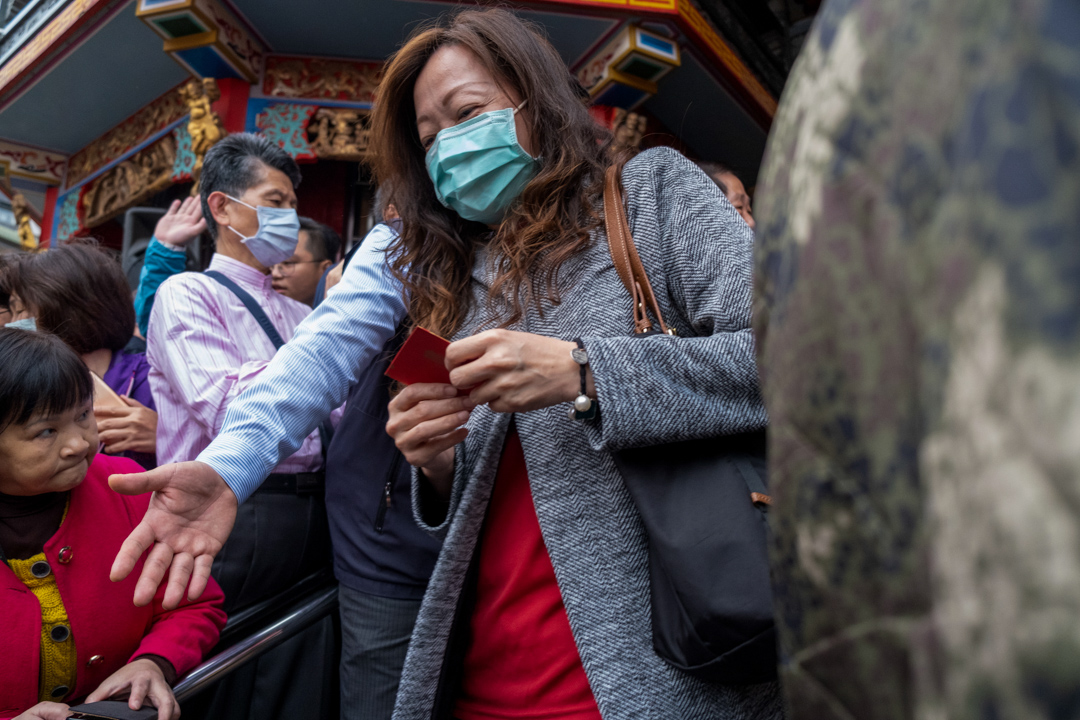Mask: (411, 52, 545, 229), (219, 166, 301, 276)
